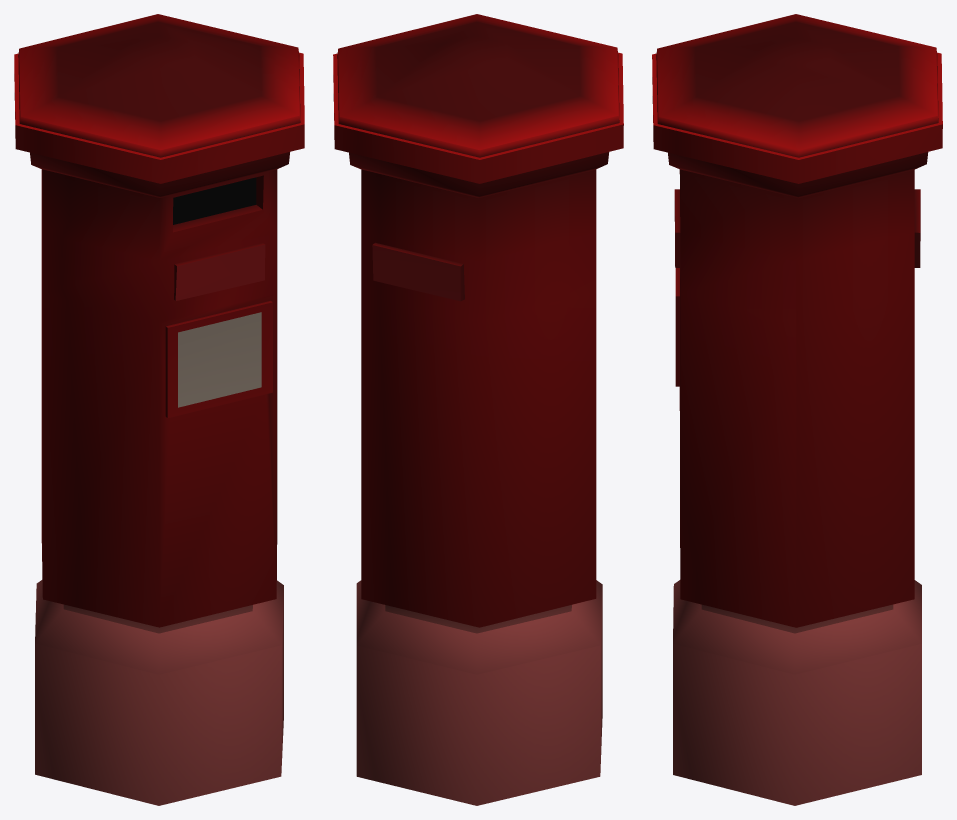
File: RoyalMailbox_Regular.fbx
3 views of the same model, side by side, from view 1: azimuth 30°, elevation 25°; view 2: azimuth 150°, elevation 25°; view 3: azimuth 270°, elevation 25° (orthographic).
Parts seen in each view (by area): view 1: RoyalMailbox_Regular; view 2: RoyalMailbox_Regular; view 3: RoyalMailbox_Regular.
Boxes of the visible parts, x1,y1,x2,y2 form: RoyalMailbox_Regular: (14, 14, 304, 805); RoyalMailbox_Regular: (333, 14, 623, 805); RoyalMailbox_Regular: (652, 14, 942, 805).
Bounding box in the file's own units: 66.94 × 153 × 58.22.
